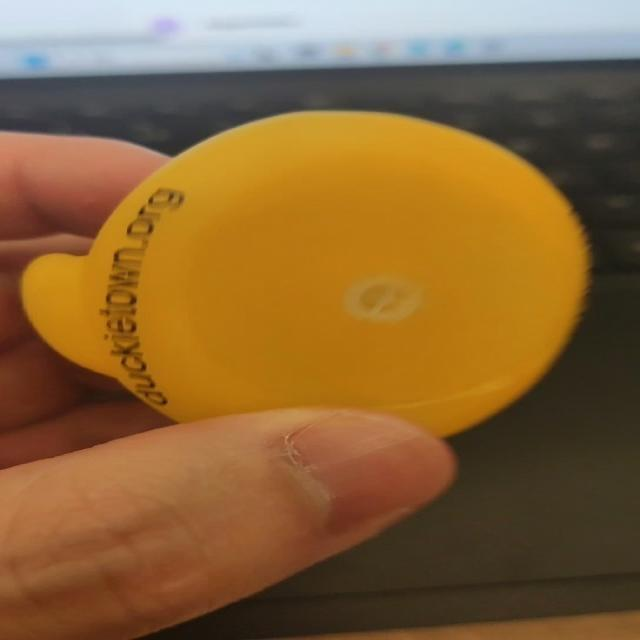rubber-duck: (20, 111, 587, 434)
